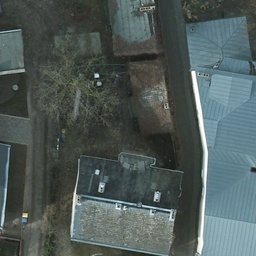car: (0, 1, 4, 24)
